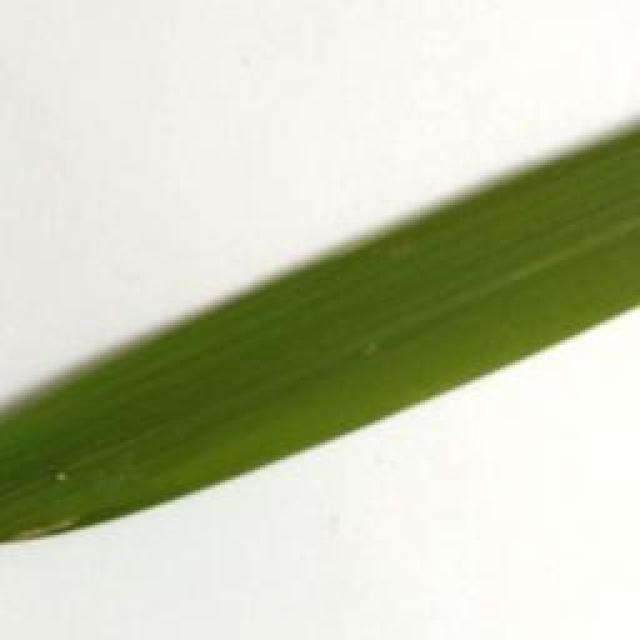Healthy-Plant: (0, 124, 640, 544)
